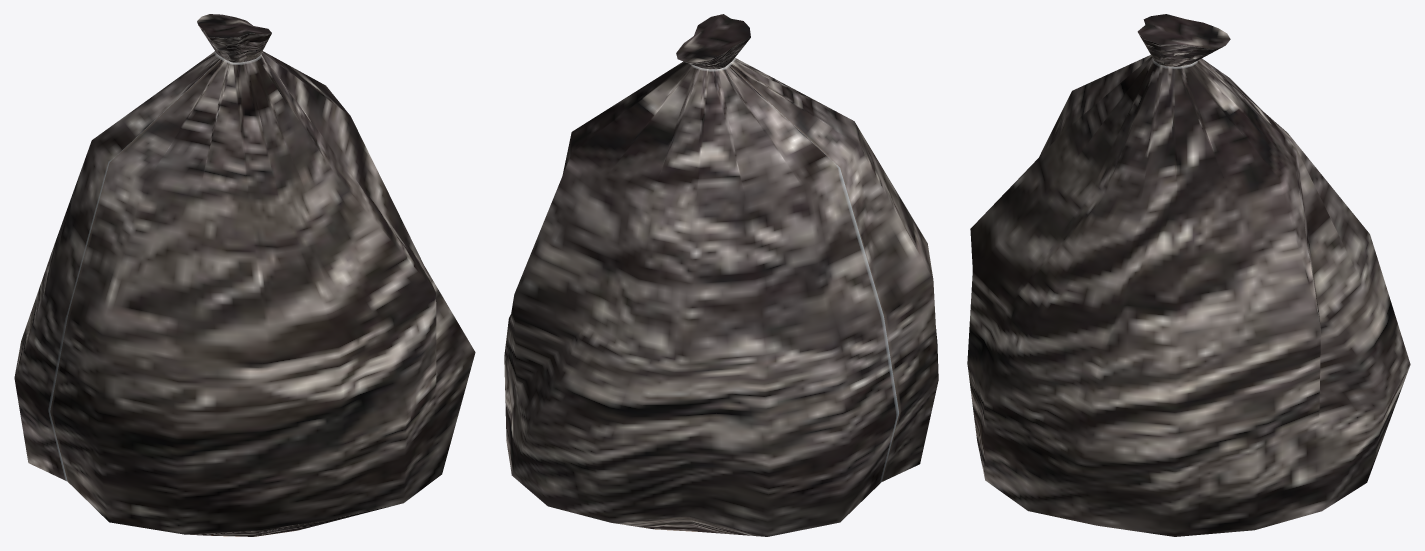
File: TrashBag.fbx
The picture shows the model from 3 angles, left to right: view 1: azimuth 30°, elevation 25°; view 2: azimuth 150°, elevation 25°; view 3: azimuth 270°, elevation 25°; orthographic projection.
Parts seen in each view (by area): view 1: TrashBag.001; view 2: TrashBag.001; view 3: TrashBag.001.
Part boxes in pixels (<box>): TrashBag.001: <box>14,14,475,536</box>; TrashBag.001: <box>504,14,938,536</box>; TrashBag.001: <box>967,14,1410,536</box>.
Size of the model in its own units: 71.08 by 79.93 by 70.17.
Materials: 1 (1 with a texture image).
